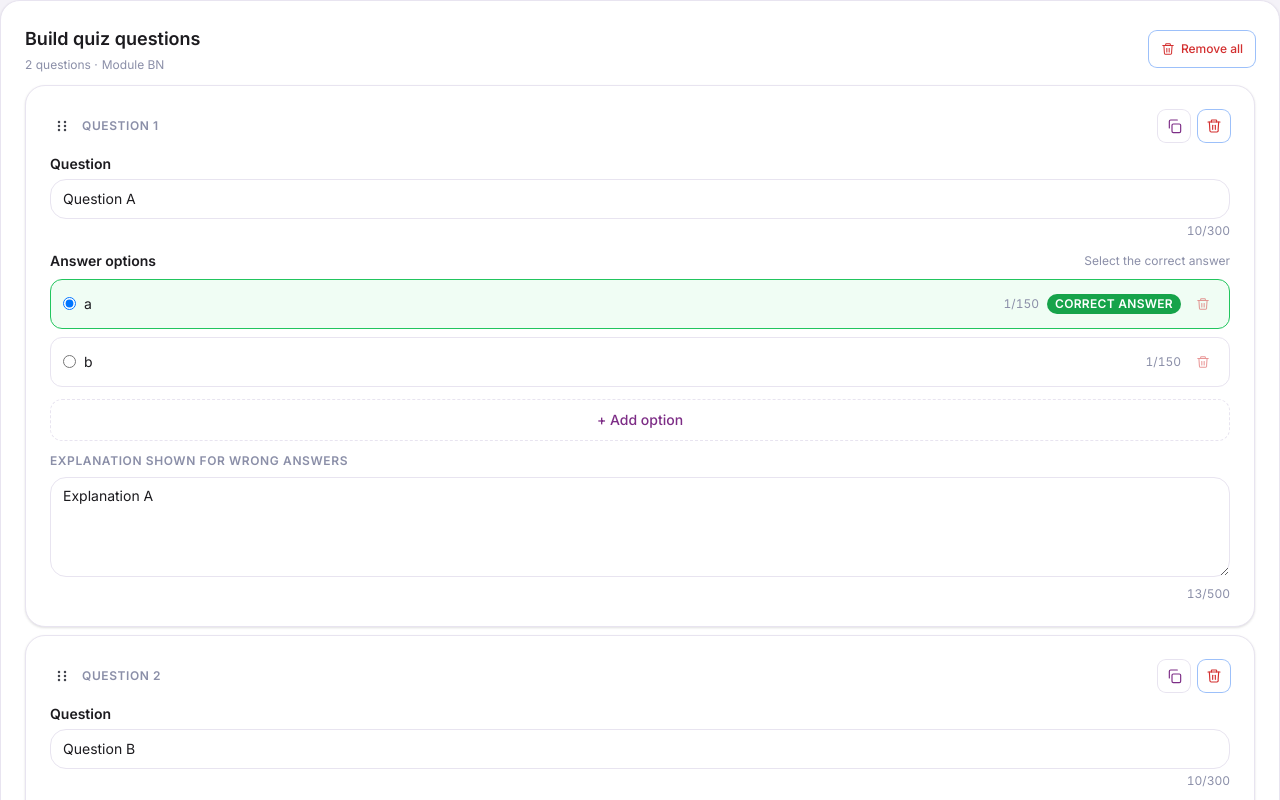
Scenario: AdminModuleQuizStep explanation review › highlights explanation after changing the correct option
Click the radio button labelled "1/150" at x=70, y=362, box [63,355,76,368]
(page scrolled)
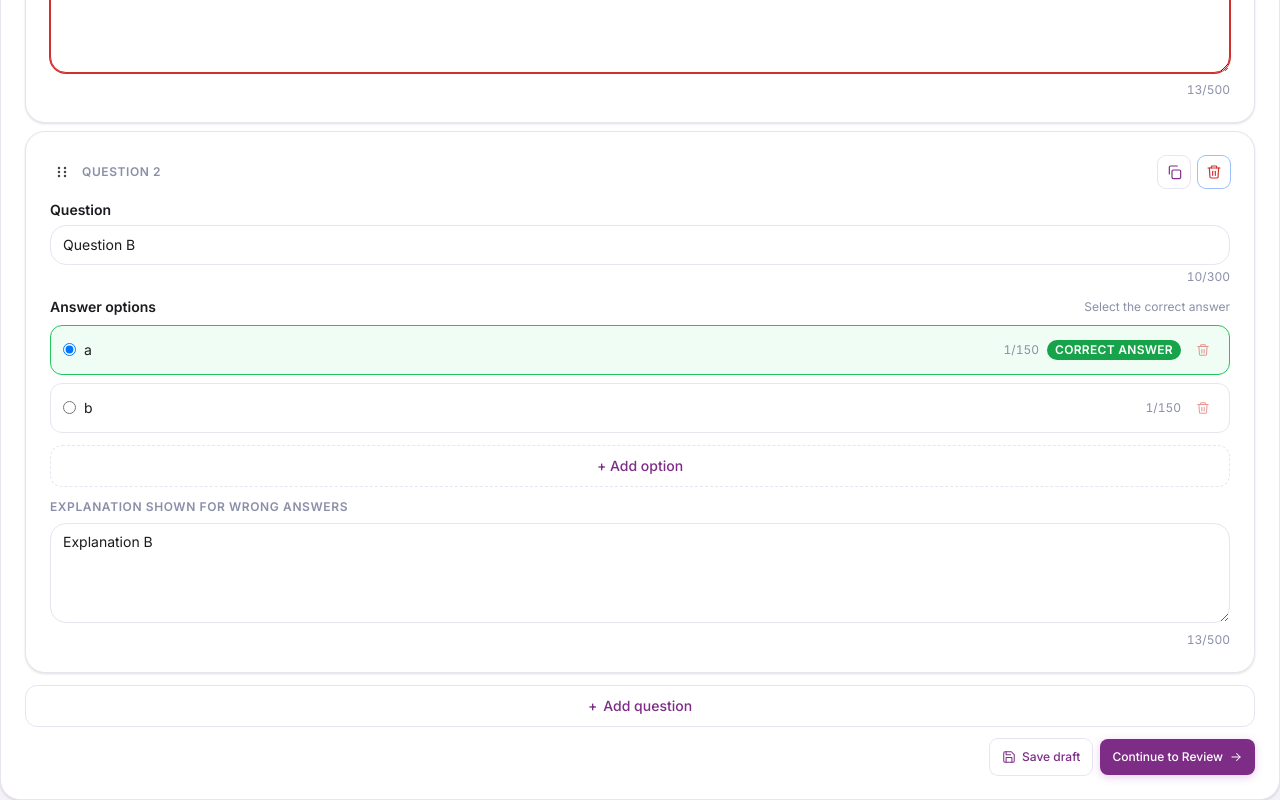
expect the text box showing "Explanation A" below "Explanation shown for wrong answers" has class "border-spice-semantic-error": met, box [50,0,1230,72]
Click the button "Continue to Review" at x=1178, y=757, box [1100,739,1255,775]
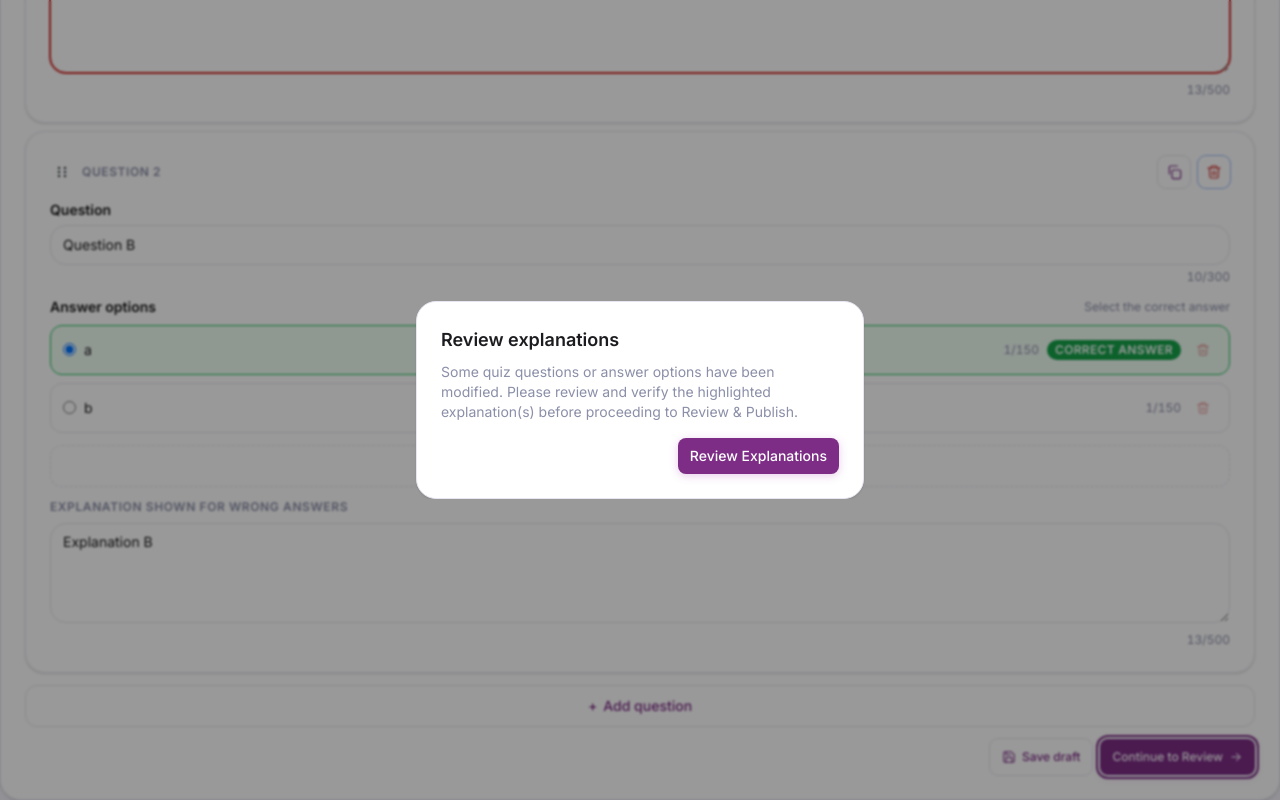
expect the dialog "Review explanations" is shown: met, box [416,301,864,499]
